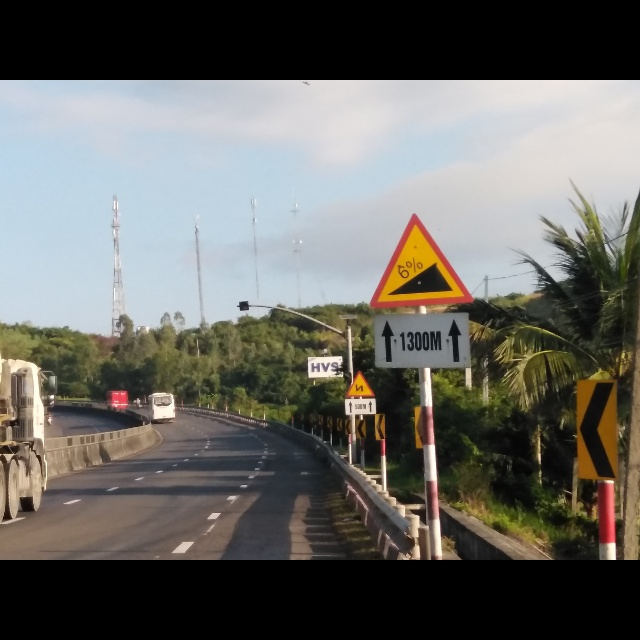Dốc lên nguy hiểm: (369, 208, 475, 310)
Ngoặt nguy hiểm liên tiếp bên phải: (345, 368, 379, 398)
